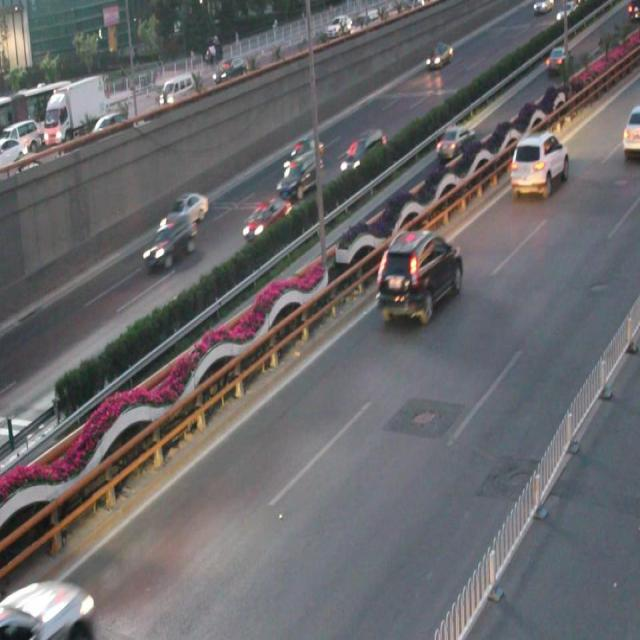car: (378, 230, 462, 321), (0, 572, 94, 640), (508, 129, 567, 197), (140, 216, 194, 266), (340, 129, 386, 174), (242, 199, 292, 240), (277, 156, 321, 197), (160, 192, 207, 228), (435, 121, 471, 162), (619, 104, 640, 157), (286, 138, 324, 165)
